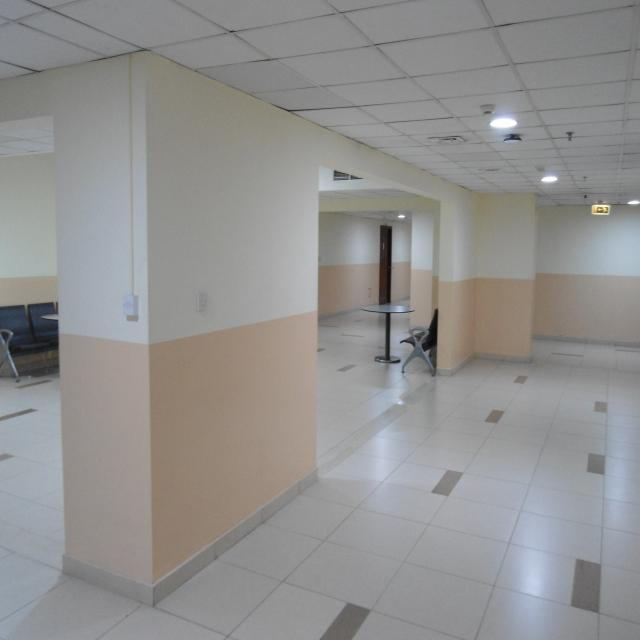bench: (0, 293, 70, 377), (390, 296, 440, 374)
exitLight: (585, 192, 614, 222)
table: (360, 303, 415, 373)
wall: (139, 46, 322, 591), (41, 62, 159, 583), (445, 159, 640, 374), (0, 153, 62, 308), (410, 205, 437, 321)
